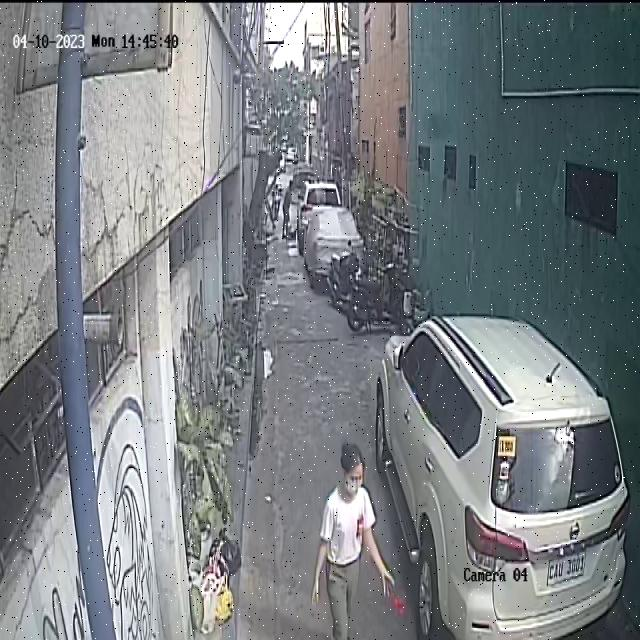garbage_dumping: (388, 584, 409, 621)
